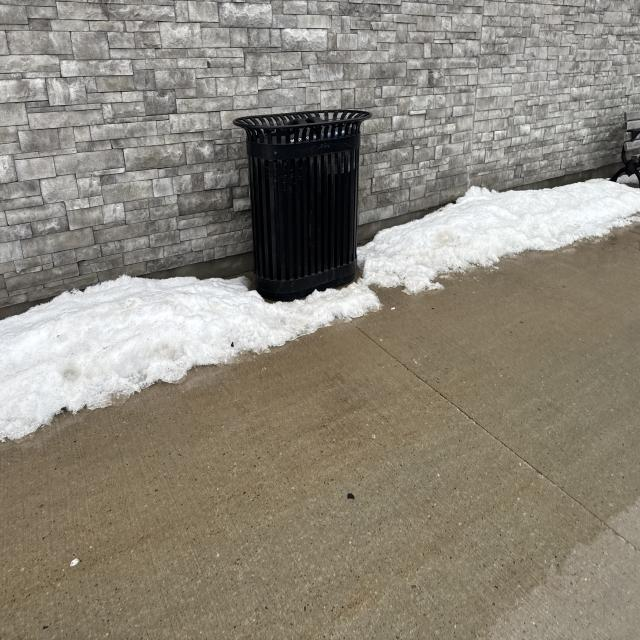Dustbin: (233, 106, 372, 306)
